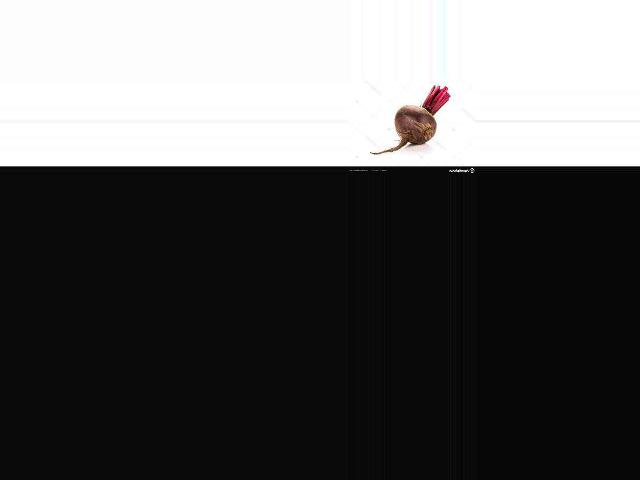beet: (369, 86, 449, 154)
